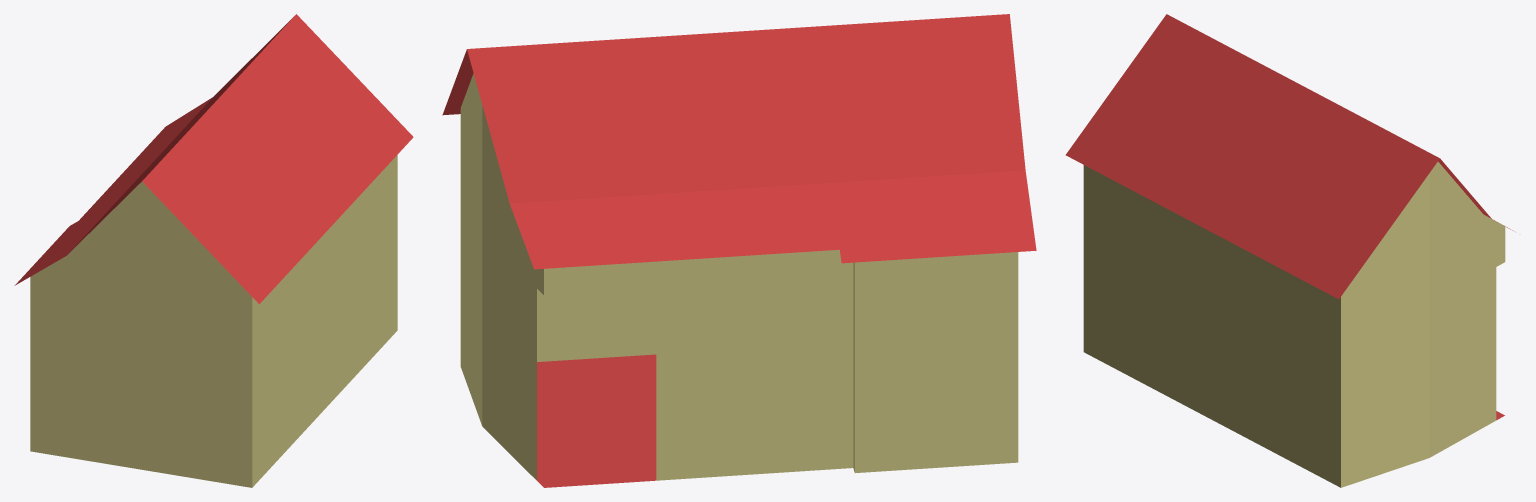
3 views of the same model, side by side, from view 1: azimuth 30°, elevation 25°; view 2: azimuth 150°, elevation 25°; view 3: azimuth 270°, elevation 25° (orthographic). The views are drawn at different scales.
Size of the model in its own units: 19.83 by 17.7 by 12.98.
